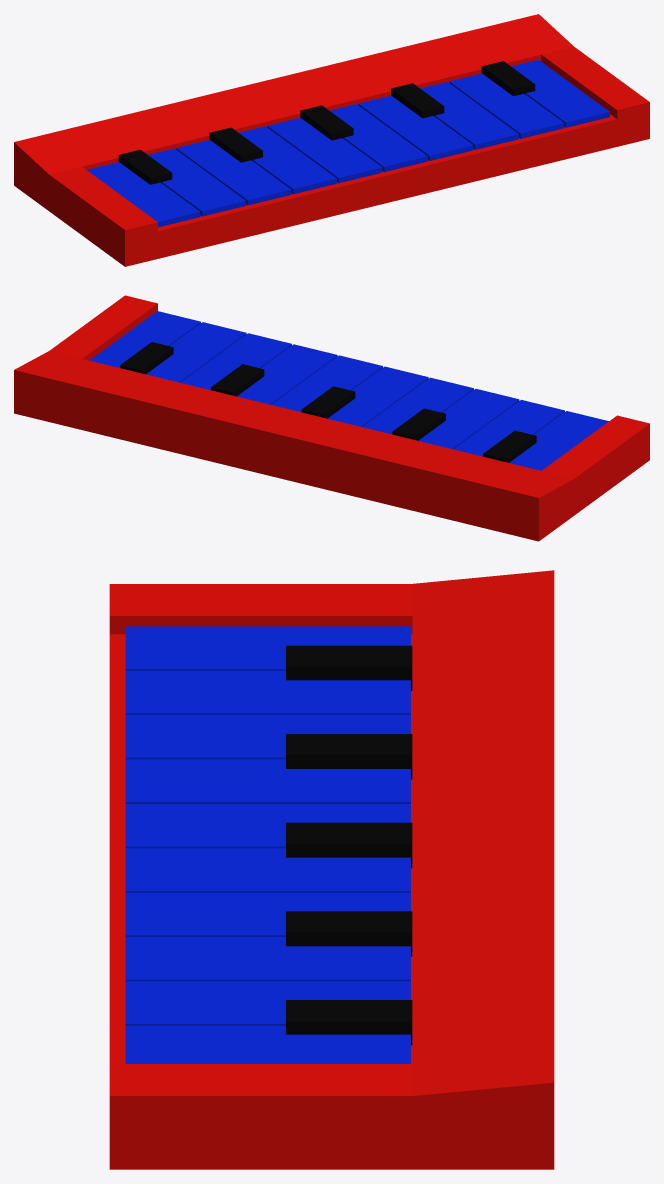
The model's file is UIKeyboard.fbx.
The picture shows the model from 3 angles, top to bottom: view 1: azimuth 30°, elevation 25°; view 2: azimuth 150°, elevation 25°; view 3: azimuth 270°, elevation 25°; orthographic projection. The views are drawn at different scales.
Visible parts, largest first — view 1: Backing, Key.002, Key.004, Key.006, Key.008, Key, Key.009, Key.007, Key.005, Key.003, Key.001, Key.014 (+4 smaller); view 2: Backing, Key.002, Key.004, Key.006, Key.008, Key, Key.009, Key.007, Key.005, Key.003, Key.001, Key.012 (+4 smaller); view 3: Backing, Key.005, Key.007, Key.003, Key.001, Key.009, Key, Key.006, Key.008, Key.002, Key.004, Key.012 (+4 smaller).
Boxes of the visible parts, <box> form: Backing: <box>14,14,649,266</box>; Key.002: <box>176,140,291,205</box>; Key.004: <box>267,117,382,183</box>; Key.006: <box>358,95,473,160</box>; Key.008: <box>449,73,564,138</box>; Key: <box>87,162,200,227</box>; Key.009: <box>511,59,609,127</box>; Key.007: <box>420,82,518,149</box>; Key.005: <box>330,104,427,172</box>; Key.003: <box>239,126,336,194</box>; Key.001: <box>148,148,245,216</box>; Key.014: <box>481,61,535,96</box>; Backing: <box>14,295,649,541</box>; Key.002: <box>418,389,519,449</box>; Key.004: <box>328,366,428,427</box>; Key.006: <box>237,344,337,404</box>; Key.008: <box>146,322,246,382</box>; Key: <box>509,411,608,470</box>; Key.009: <box>90,311,200,367</box>; Key.007: <box>180,333,291,390</box>; Key.005: <box>272,355,382,412</box>; Key.003: <box>363,377,473,434</box>; Key.001: <box>453,399,564,456</box>; Key.012: <box>301,386,355,418</box>; Backing: <box>109,570,554,1169</box>; Key.005: <box>125,848,410,892</box>; Key.007: <box>125,937,410,981</box>; Key.003: <box>125,759,410,803</box>; Key.001: <box>125,670,410,714</box>; Key.009: <box>125,1025,410,1063</box>; Key: <box>125,626,410,670</box>; Key.006: <box>125,892,410,936</box>; Key.008: <box>125,981,410,1025</box>; Key.002: <box>125,715,410,759</box>; Key.004: <box>125,804,410,848</box>; Key.012: <box>286,822,412,868</box>.
Bounding box in the file's own units: 600 × 47.57 × 220.
